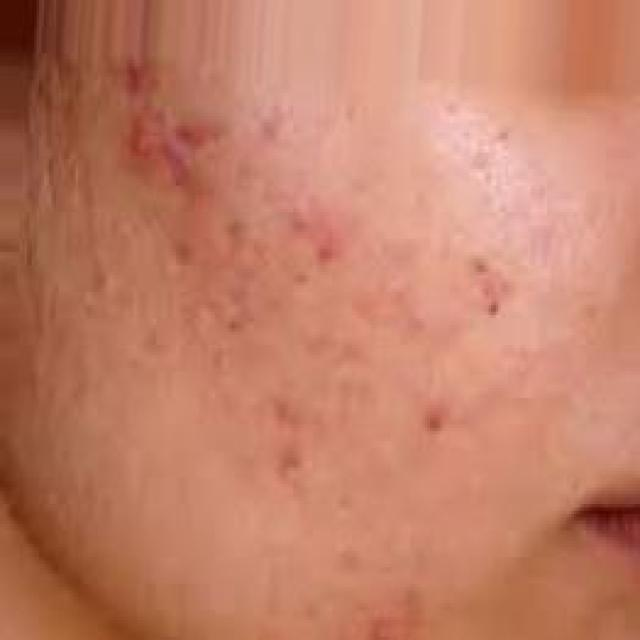Acne: (281, 280, 430, 431), (61, 176, 166, 352), (165, 234, 271, 366), (436, 106, 534, 224), (312, 542, 428, 640), (114, 124, 237, 210), (265, 184, 371, 277), (254, 408, 346, 502), (412, 386, 483, 486), (377, 235, 441, 338), (464, 235, 523, 334), (242, 84, 304, 161), (122, 53, 160, 108)
